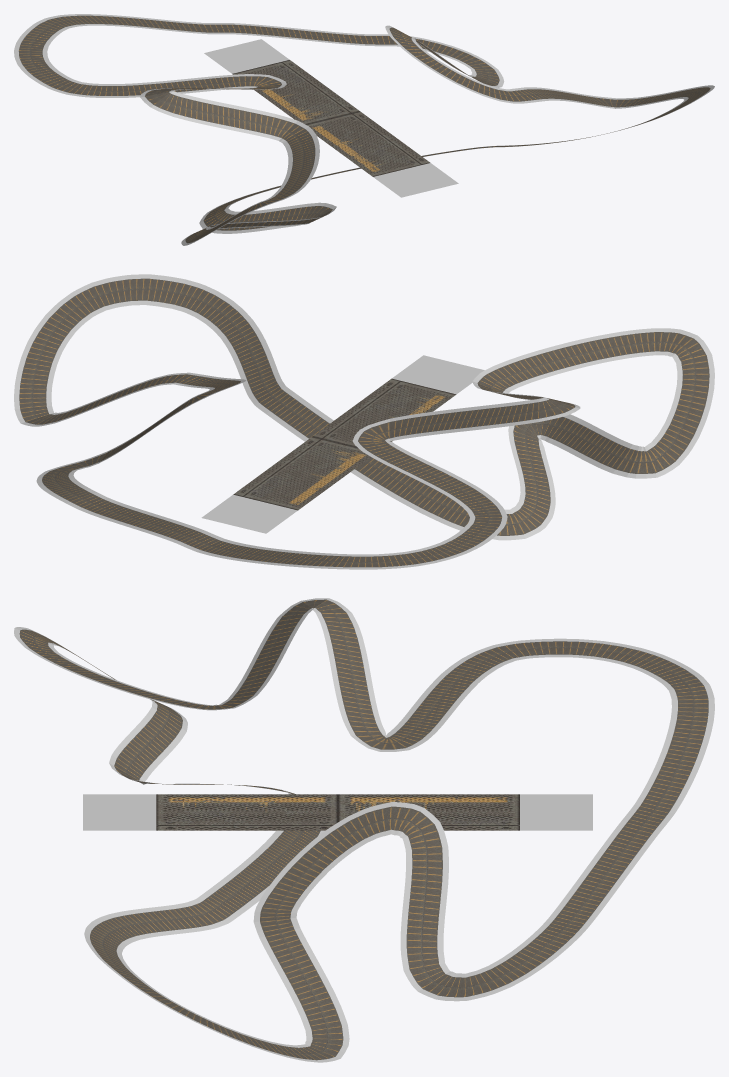
The model's file is twistTrack.fbx.
3 renders of one model, top to bottom at view 1: azimuth 30°, elevation 25°; view 2: azimuth 150°, elevation 25°; view 3: azimuth 270°, elevation 25°, orthographic. The views are drawn at different scales.
Parts seen in each view (by area): view 1: Plane.001, Plane; view 2: Plane.001, Plane; view 3: Plane.001, Plane.
Part boxes in pixels (left/top/right/bottom): Plane.001: left=14, top=14, right=714, bottom=245; Plane: left=204, top=39, right=458, bottom=197; Plane.001: left=14, top=274, right=714, bottom=569; Plane: left=201, top=355, right=484, bottom=533; Plane.001: left=14, top=598, right=714, bottom=1062; Plane: left=83, top=794, right=592, bottom=830.
Size of the model in its own units: 1901 by 442 by 1628.
